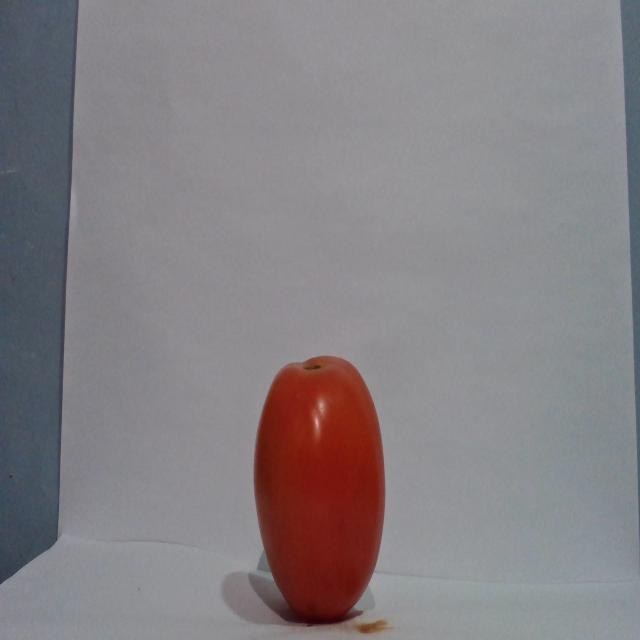Red: (252, 353, 386, 622)
